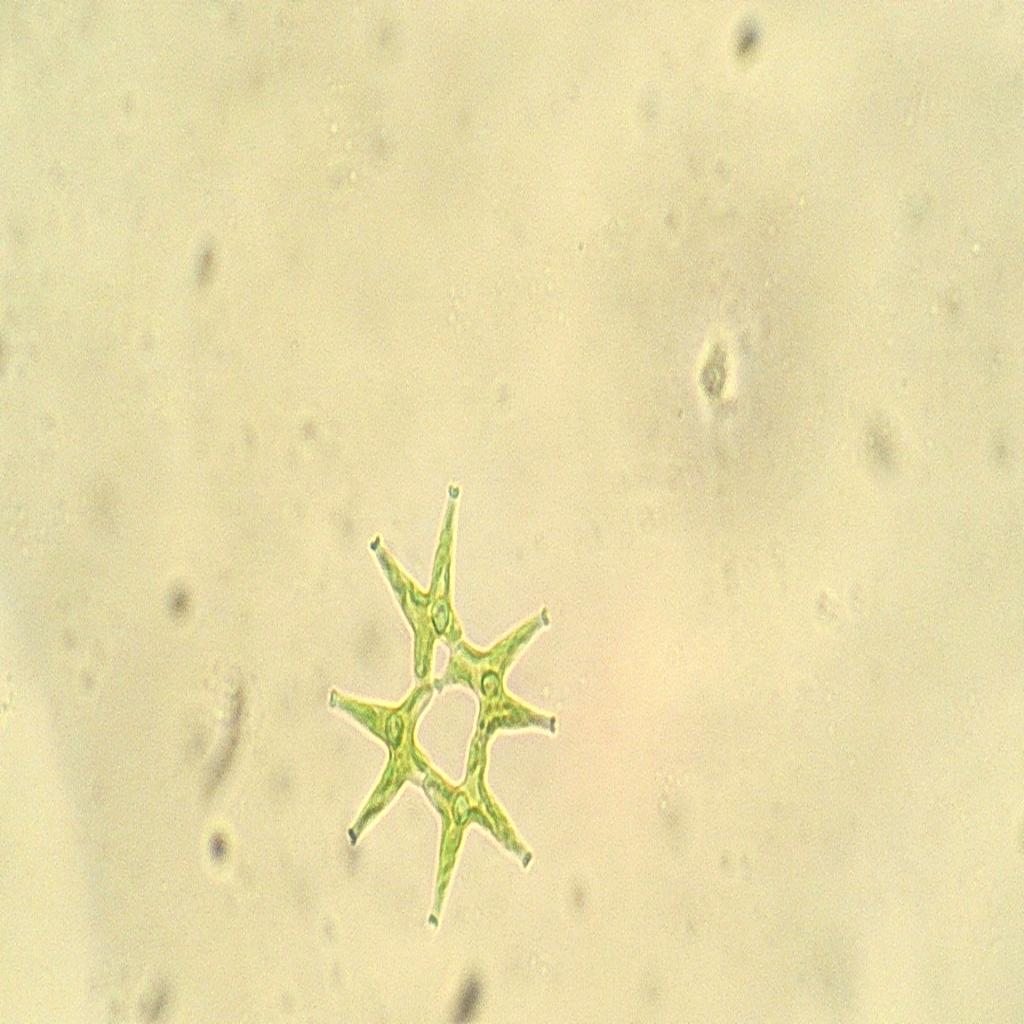Pediastrum_75FO: (323, 469, 568, 944)
